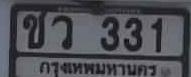1: (150, 17, 161, 51)
3: (123, 17, 141, 50), (100, 16, 118, 49)
A10: (22, 12, 46, 48)
A37: (51, 15, 72, 48)
BKK: (37, 57, 158, 77)
